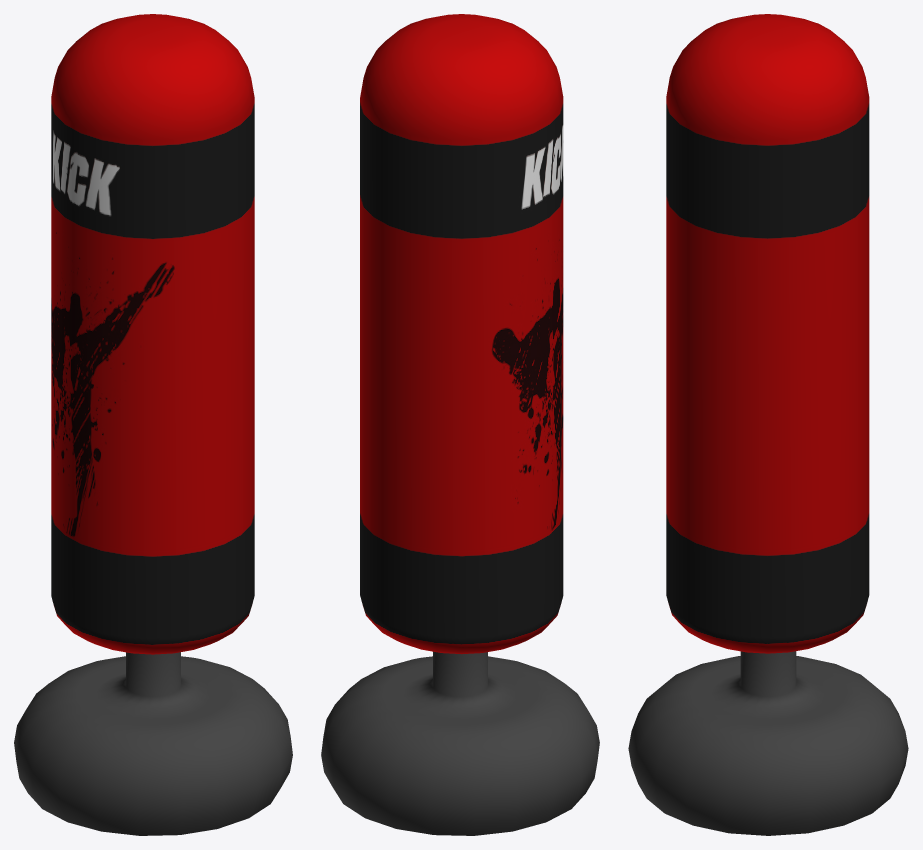
The model's file is kicking bag_01.fbx.
3 renders of one model, left to right at view 1: azimuth 30°, elevation 25°; view 2: azimuth 150°, elevation 25°; view 3: azimuth 270°, elevation 25°, orthographic.
Visible parts, largest first — view 1: polySurface36, polySurface37; view 2: polySurface36, polySurface37; view 3: polySurface36, polySurface37.
Boxes of the visible parts, x1,y1,x2,y2 form: polySurface36: (51,14,254,654); polySurface37: (14,652,292,835); polySurface36: (360,14,563,654); polySurface37: (321,651,599,835); polySurface36: (666,14,869,653); polySurface37: (628,651,908,835).
Bounding box in the file's own units: 17.48 × 51.52 × 17.48.
2 materials, 1 textured.
